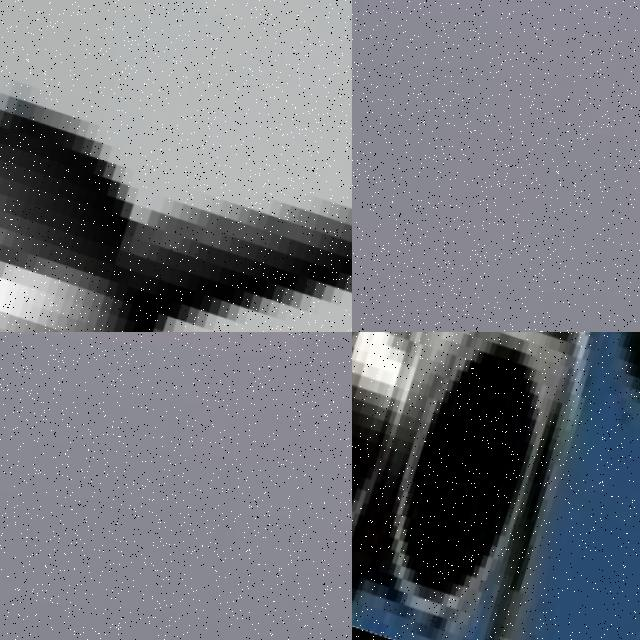drone: (0, 0, 352, 332), (352, 332, 640, 640)
